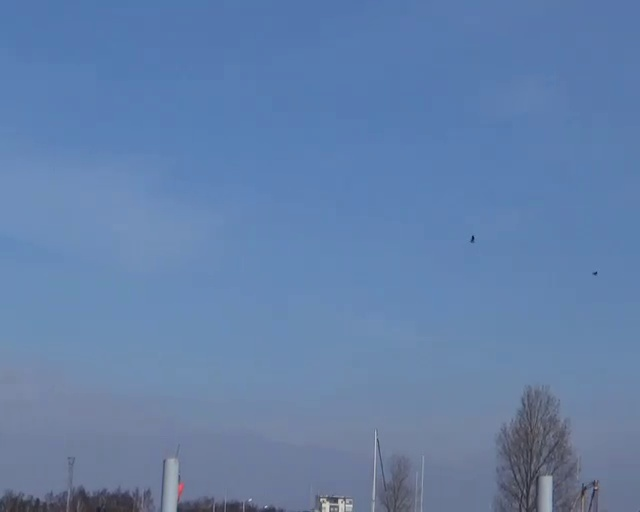BIRD: (469, 234, 477, 243)
